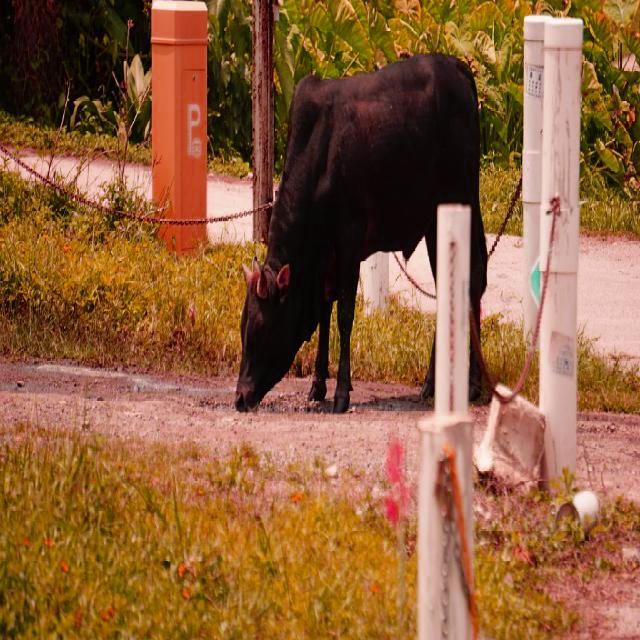cow: (235, 55, 488, 412)
